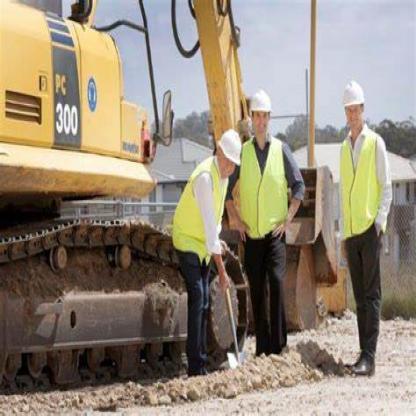person: (322, 63, 397, 382), (167, 117, 241, 390), (240, 75, 296, 375)
